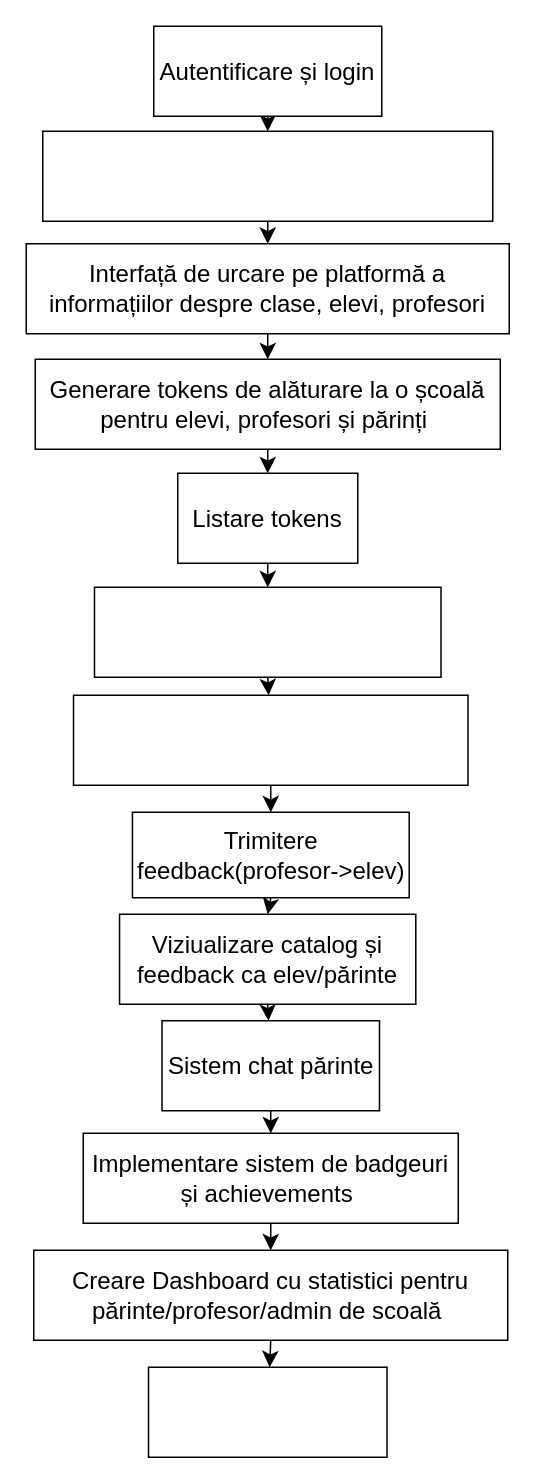
This 536x1484 diagram has some shape labels left out. Here are the shapes that lost their labels. From the top down, the centre of each, then its label:
(x=267, y=175): Înregistrare instituție de învățământ
(x=267, y=631): Alăturare la instituția de învățământ pe baza unui token
(x=270, y=739): Punere note și absențe în catalog
(x=267, y=1411): Sistem de anunturi
